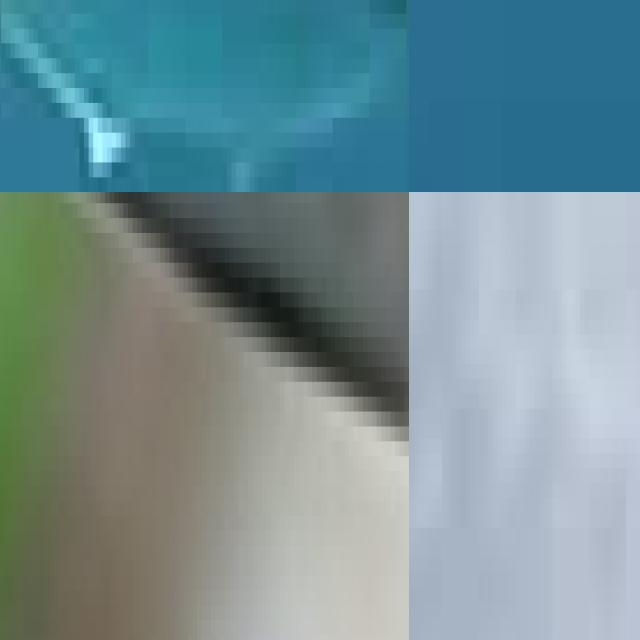fish: (409, 192, 640, 640), (0, 0, 409, 192)
